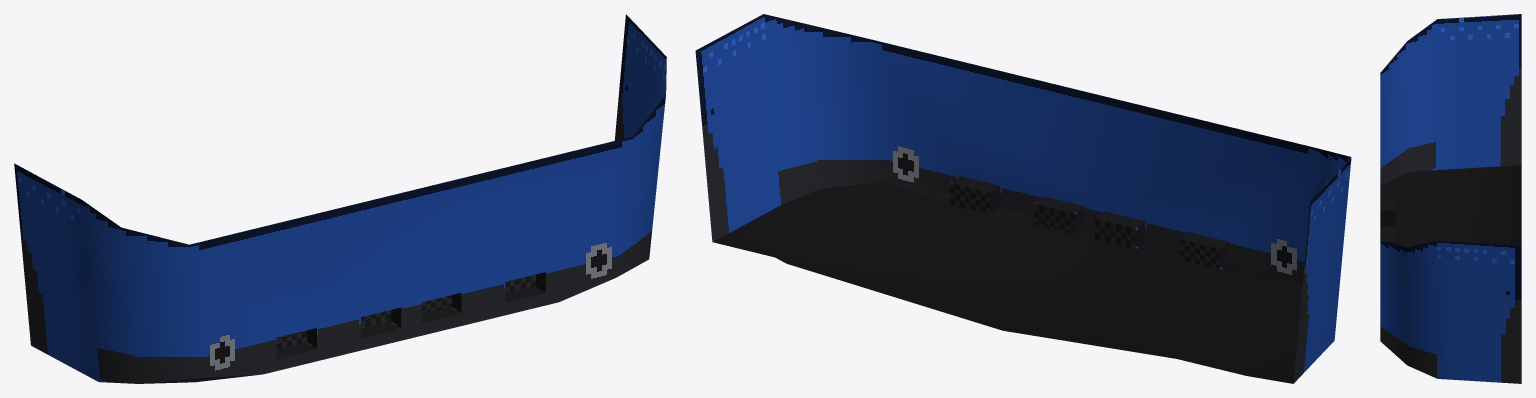
File: bumper_R_diffuser.glb
The picture shows the model from 3 angles, left to right: view 1: azimuth 30°, elevation 25°; view 2: azimuth 150°, elevation 25°; view 3: azimuth 270°, elevation 25°; orthographic projection. The views are drawn at different scales.
Visible parts, largest first — view 1: bumper_R_diffuser; view 2: bumper_R_diffuser; view 3: bumper_R_diffuser.
Part boxes in pixels (x1,y1,x2,y2): bumper_R_diffuser: (14, 14, 666, 383); bumper_R_diffuser: (695, 14, 1351, 383); bumper_R_diffuser: (1380, 14, 1521, 383).
Bounding box in the file's own units: 1.82 × 0.58 × 0.47.
Materials: 1 (1 with a texture image).
